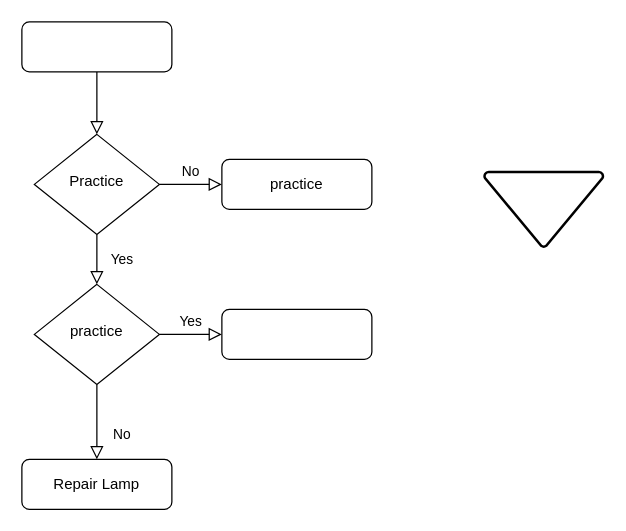
The diagram is 626 pixels wide and 531 high, and some of its shapes have lost their labels. Each missing label, with the centre of its shape:
"Lamp doesn't work" belongs at (x=96, y=46).
"Replace Bulb" belongs at (x=296, y=333).
